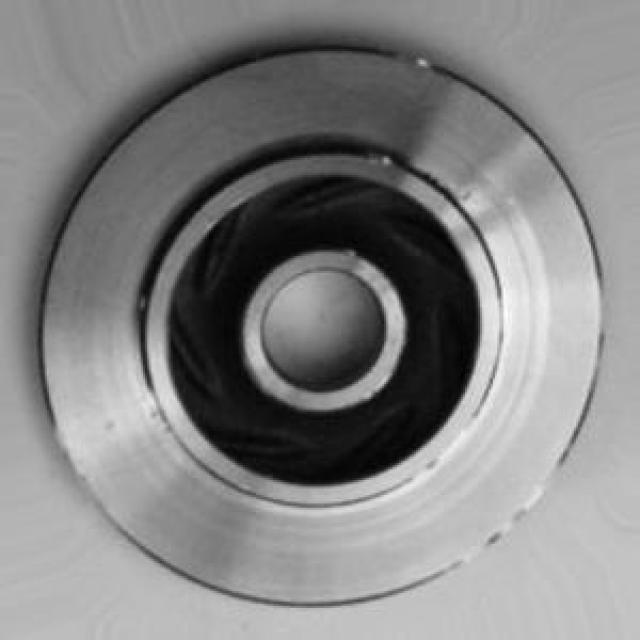Defect: (366, 137, 396, 171)
